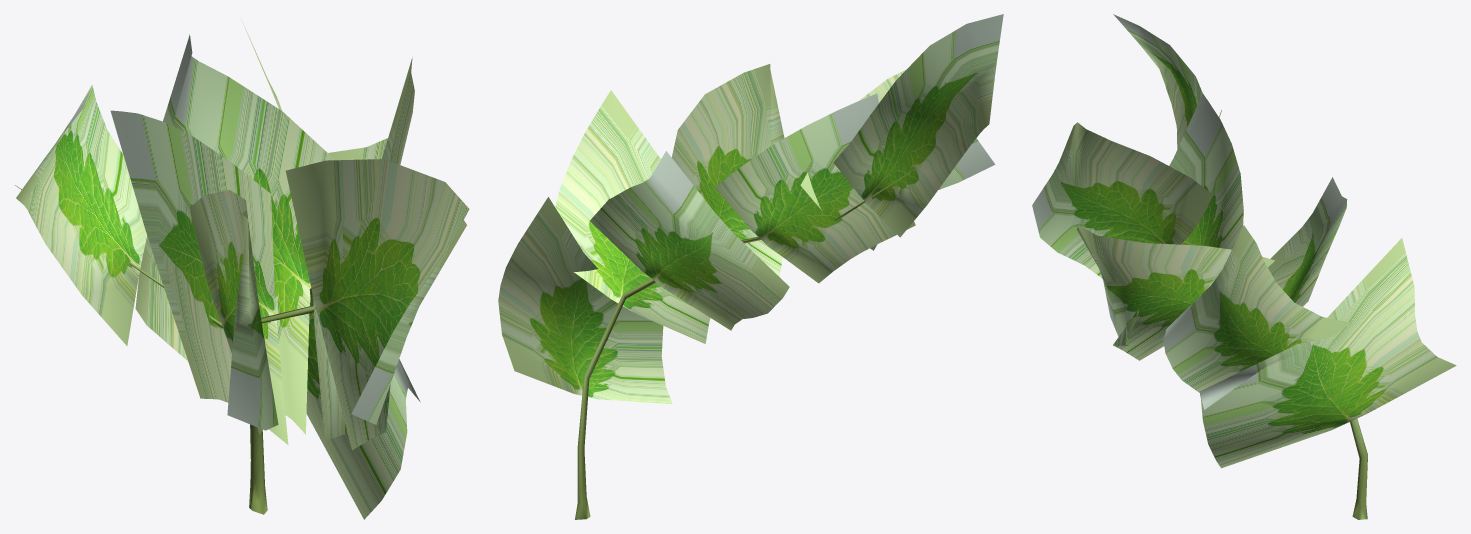
The model's file is SM_Plant_22.fbx.
3 views of the same model, side by side, from view 1: azimuth 30°, elevation 25°; view 2: azimuth 150°, elevation 25°; view 3: azimuth 270°, elevation 25° (orthographic). The views are drawn at different scales.
Visible parts, largest first — view 1: SM_Plant_22; view 2: SM_Plant_22; view 3: SM_Plant_22.
Boxes of the visible parts, box(x1,y1,x2,y2) form: SM_Plant_22: box(15, 21, 469, 519); SM_Plant_22: box(498, 14, 1003, 519); SM_Plant_22: box(1032, 14, 1456, 519).
Size of the model in its own units: 13.51 by 16.68 by 16.95.
Materials: 2 (2 with a texture image).
